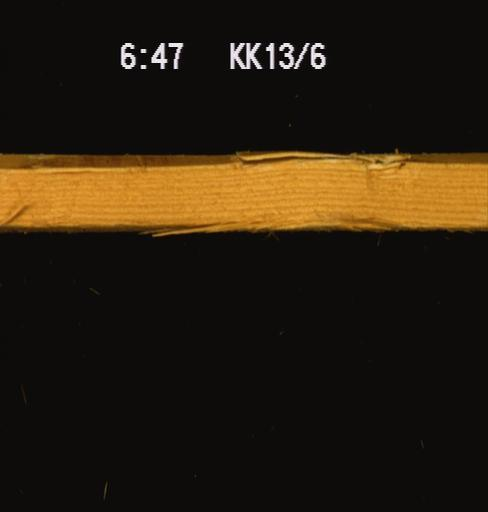wave: (0, 145, 486, 171), (3, 215, 485, 241)
